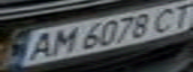0: (100, 17, 124, 47)
6: (78, 20, 103, 51)
7: (115, 14, 139, 43)
8: (130, 10, 160, 38)
A: (21, 29, 60, 62)
C: (145, 4, 187, 34)
M: (42, 26, 78, 57)
T: (163, 1, 193, 30)
